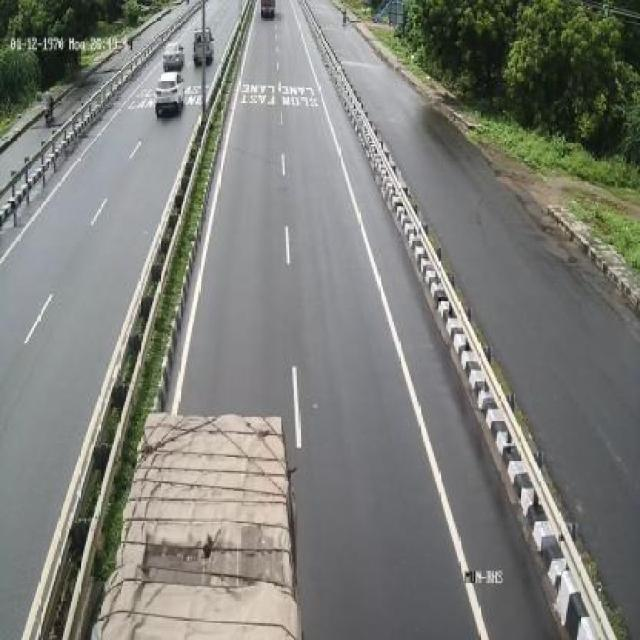car: (151, 71, 186, 115), (163, 37, 188, 71), (192, 28, 215, 60)
